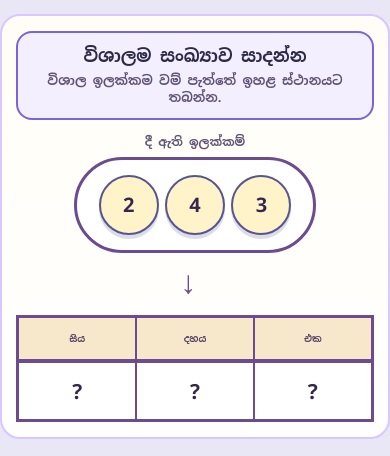
Test: Number World greatest and smallest number table › builds and submits the arranged number without revealing it
The image size is (390, 456).
Click the button "4" at coordinates (195, 205), box [165,175,225,235]
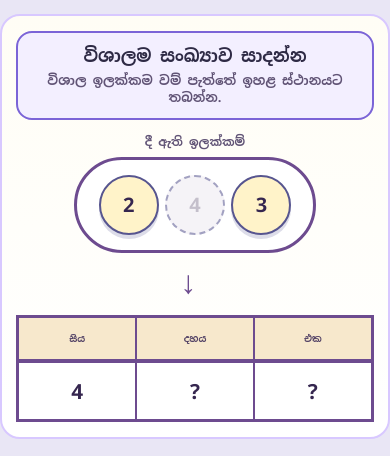
Click the button "3" at coordinates (261, 205), box [231,175,291,235]
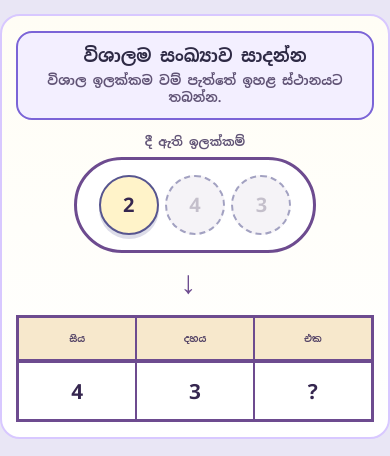
Click the button "2" at coordinates (129, 205), box [99,175,159,235]
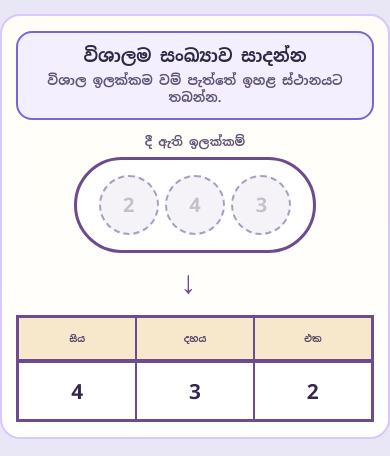
Now the table reads "4 3 2", box [18,362,372,421]
